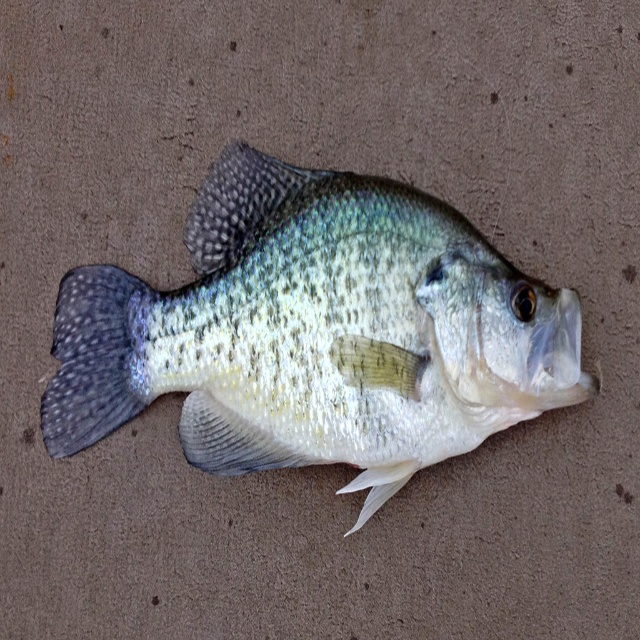Fish: (40, 133, 605, 535)
